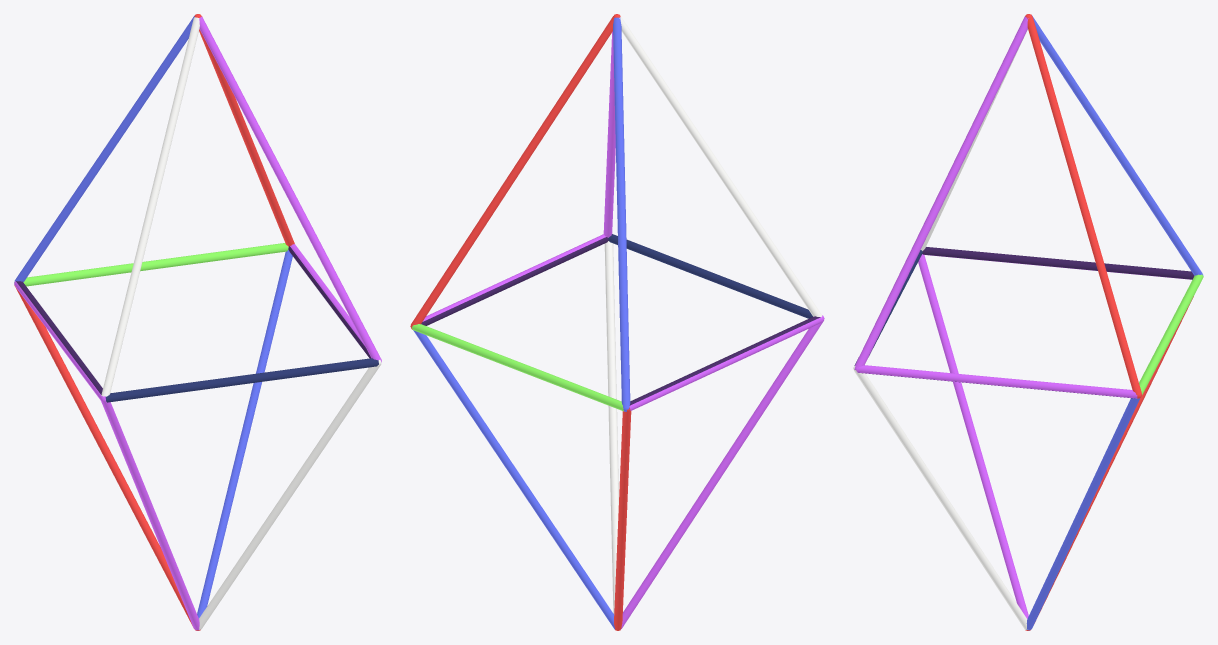
The model's file is access-transformed.glb.
The picture shows the model from 3 angles, left to right: view 1: azimuth 30°, elevation 25°; view 2: azimuth 150°, elevation 25°; view 3: azimuth 270°, elevation 25°; orthographic projection.
Visible parts, largest first — view 1: Pyramid, Pyramid_2; view 2: Pyramid_2, Pyramid; view 3: Pyramid_2, Pyramid.
Boxes of the visible parts, left/top/right/bottom form: Pyramid: left=14, top=245, right=381, bottom=630; Pyramid_2: left=14, top=14, right=381, bottom=396; Pyramid_2: left=410, top=14, right=822, bottom=411; Pyramid: left=413, top=235, right=824, bottom=630; Pyramid_2: left=854, top=14, right=1203, bottom=398; Pyramid: left=853, top=254, right=1194, bottom=630.
Bounding box in the file's own units: 2.45 × 4.75 × 2.45.
1 material, 1 textured.
